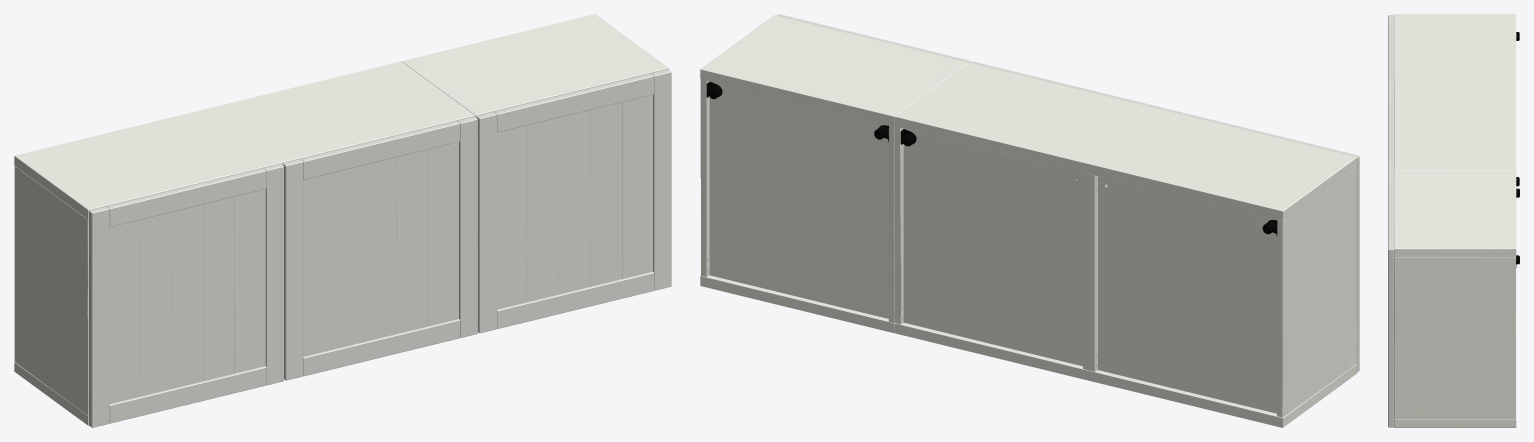
File: 10 - BESTÅ - 上牆式收納櫃組合, 白色Pipmakare 白色, 180x42x64 公分 IKEA 線上購物.glb
3 views of the same model, side by side, from view 1: azimuth 30°, elevation 25°; view 2: azimuth 150°, elevation 25°; view 3: azimuth 270°, elevation 25° (orthographic). The views are drawn at different scales.
Parts seen in each view (by area): view 1: 29597829_wall_mounted_cabinet_combination:1, 29597829_wall_mounted_cabinet_combination:3, 29597829_wall_mounted_cabinet_combination:2; view 2: 29597829_wall_mounted_cabinet_combination:3, 29597829_wall_mounted_cabinet_combination:2, 29597829_wall_mounted_cabinet_combination:1; view 3: 29597829_wall_mounted_cabinet_combination:2, 29597829_wall_mounted_cabinet_combination:3, 29597829_wall_mounted_cabinet_combination:1.
Part boxes in pixels (x1=…): 29597829_wall_mounted_cabinet_combination:1: x1=89, y1=69, x2=671, y2=427; 29597829_wall_mounted_cabinet_combination:3: x1=14, y1=61, x2=475, y2=425; 29597829_wall_mounted_cabinet_combination:2: x1=402, y1=14, x2=668, y2=117; 29597829_wall_mounted_cabinet_combination:3: x1=894, y1=63, x2=1356, y2=427; 29597829_wall_mounted_cabinet_combination:2: x1=700, y1=15, x2=967, y2=333; 29597829_wall_mounted_cabinet_combination:1: x1=776, y1=14, x2=1359, y2=372; 29597829_wall_mounted_cabinet_combination:2: x1=1394, y1=170, x2=1519, y2=427; 29597829_wall_mounted_cabinet_combination:3: x1=1394, y1=14, x2=1519, y2=341; 29597829_wall_mounted_cabinet_combination:1: x1=1388, y1=15, x2=1393, y2=427.
Bounding box in the file's own units: 1.8 × 0.6402 × 0.4262.
Materials: 3 (2 with a texture image).
